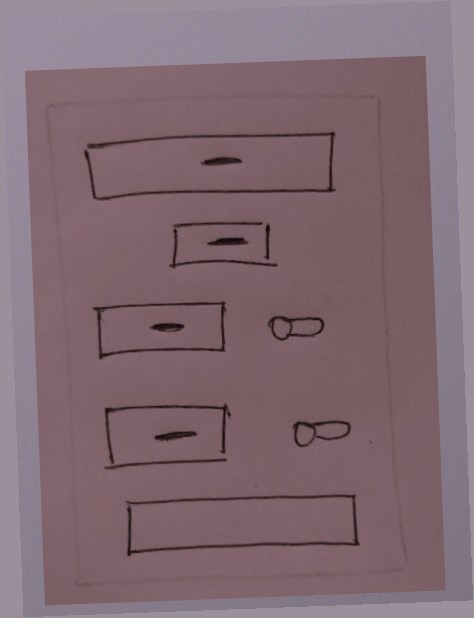button: (77, 125, 342, 209), (98, 400, 234, 474), (90, 295, 233, 365), (160, 215, 283, 278)
switch: (284, 408, 355, 457), (265, 307, 331, 351)
text_input: (119, 485, 368, 567)
